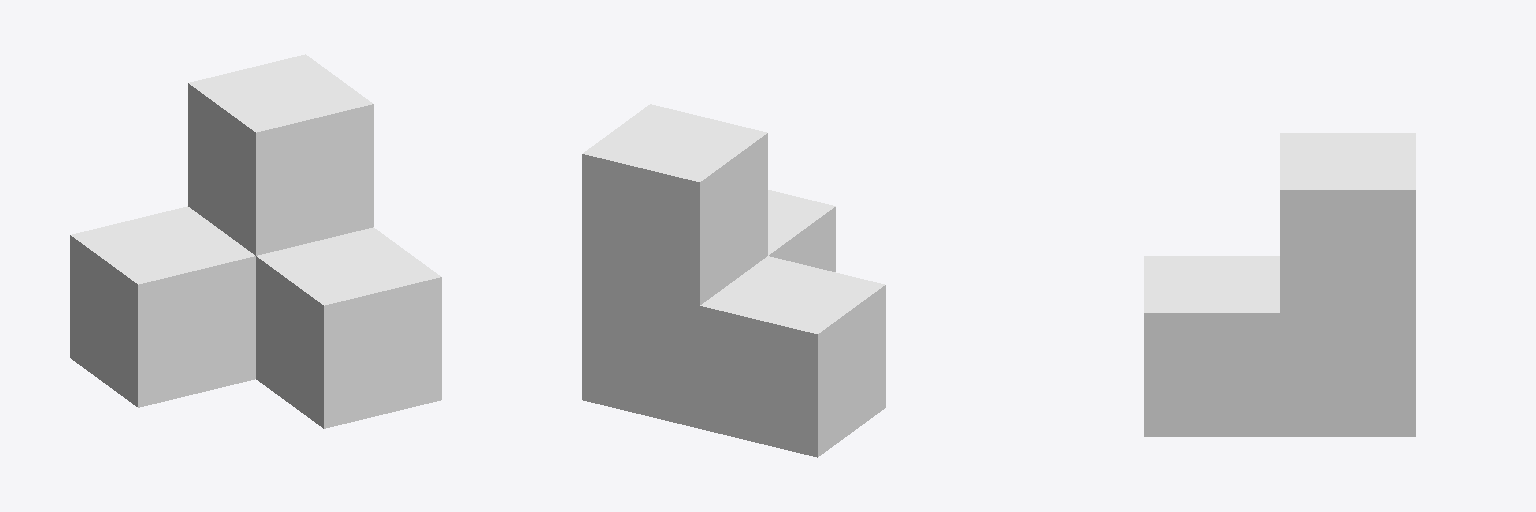
Rendered from PBlock00.obj.
The picture shows the model from 3 angles: view 1: azimuth 30°, elevation 25°; view 2: azimuth 150°, elevation 25°; view 3: azimuth 270°, elevation 25°; orthographic projection.
Bounding box in the file's own units: 40 × 40 × 40.